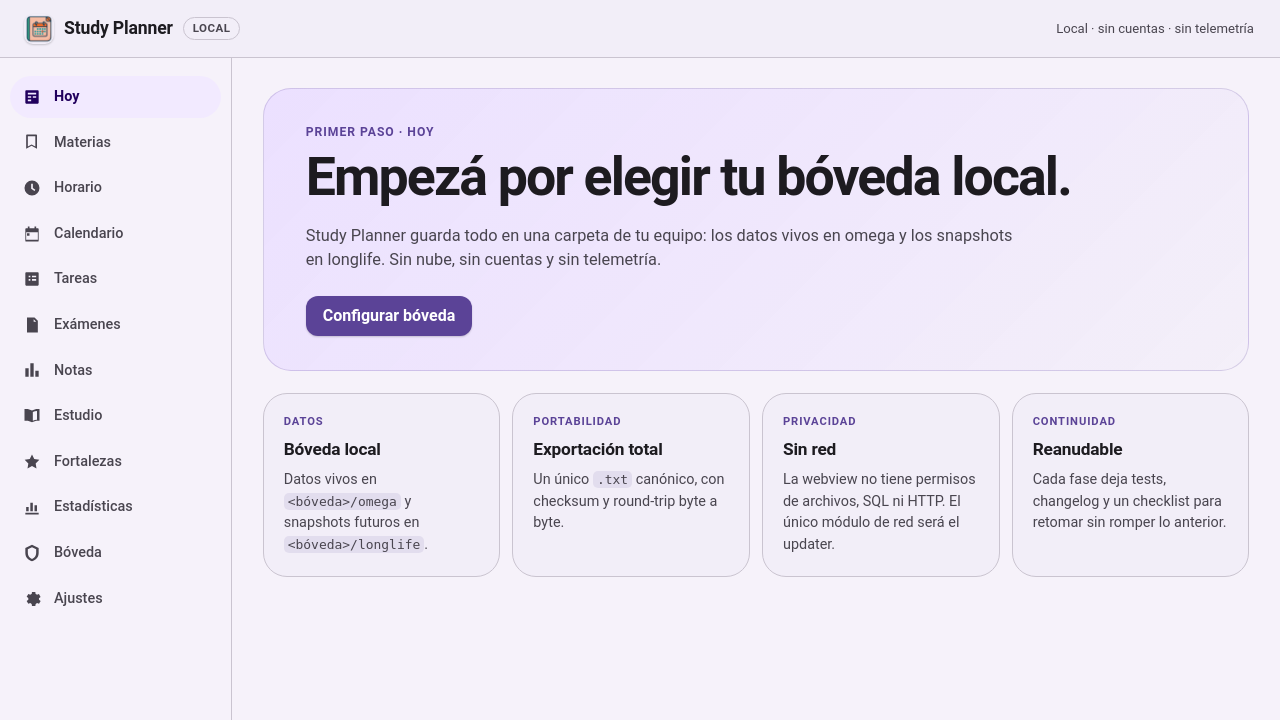
App en navegador › vuelve a Hoy desde una sección provisional
Click the button "Calendario".
click(116, 234)  # box [10,213,221,254]
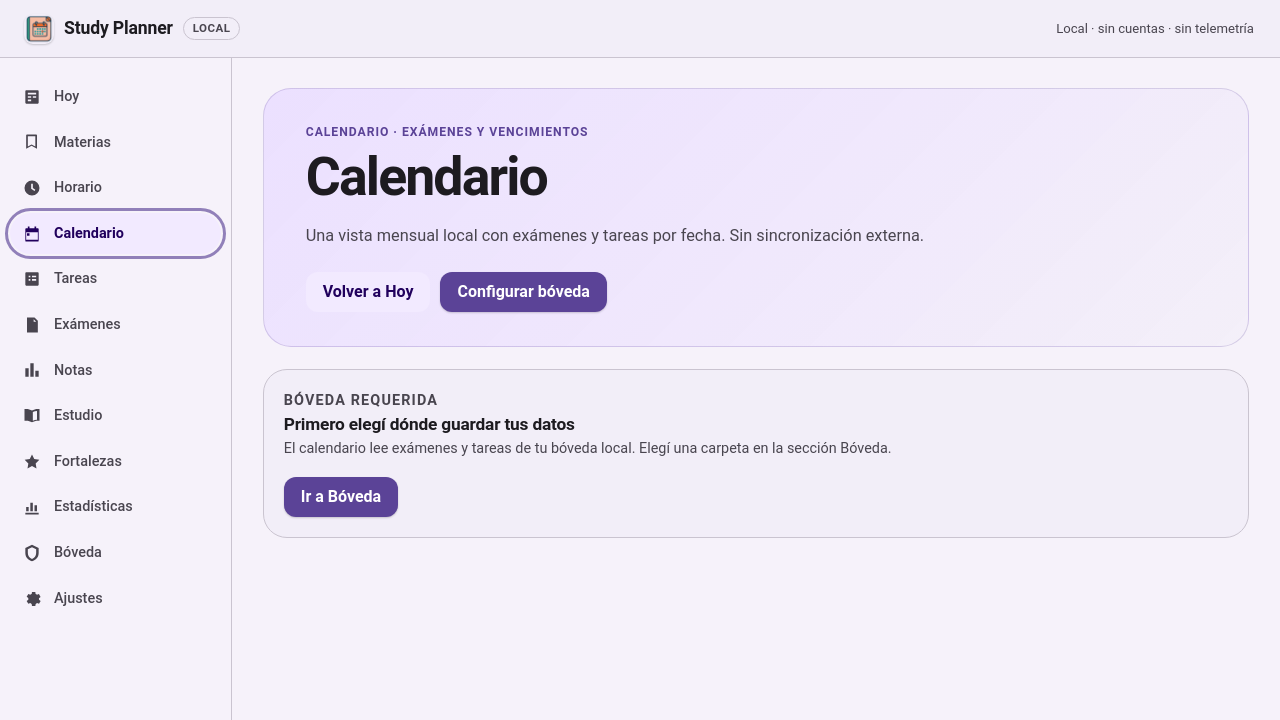
Click the button "Volver a Hoy".
click(368, 292)  # box [306,272,430,312]
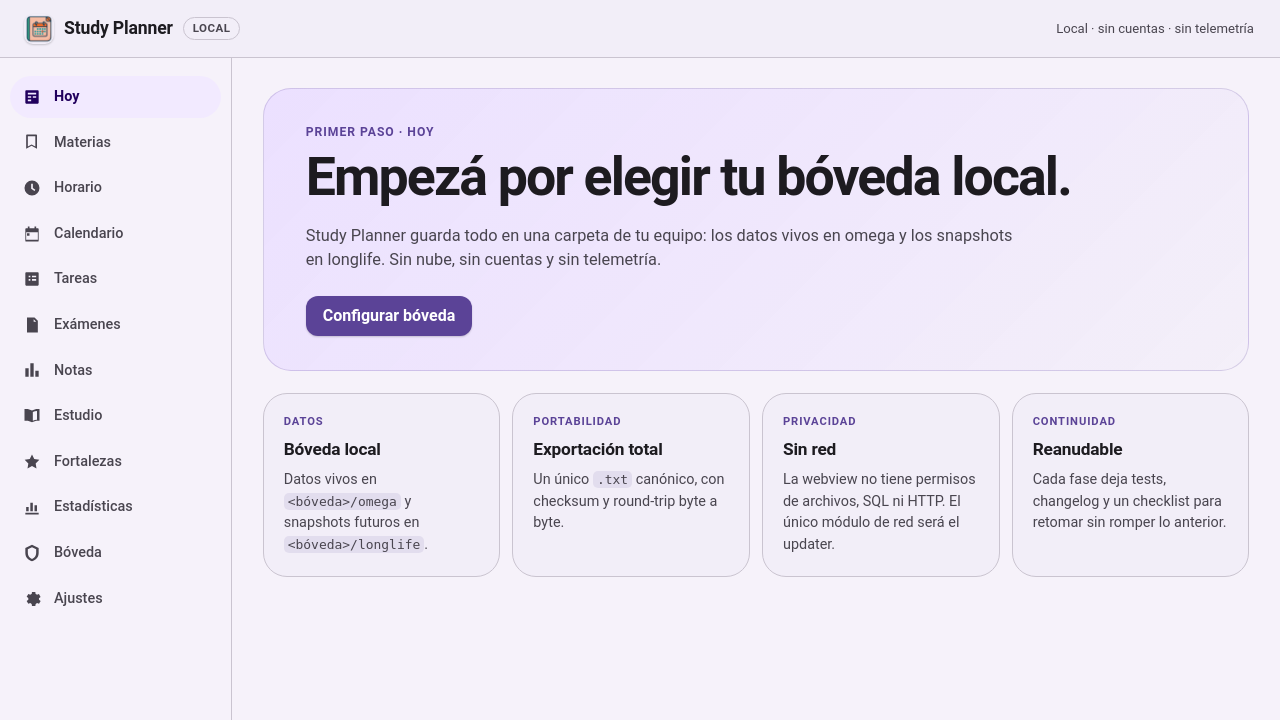
Expected: the heading "Empezá por elegir tu bóveda local." is shown, [306,149,1086,206]
